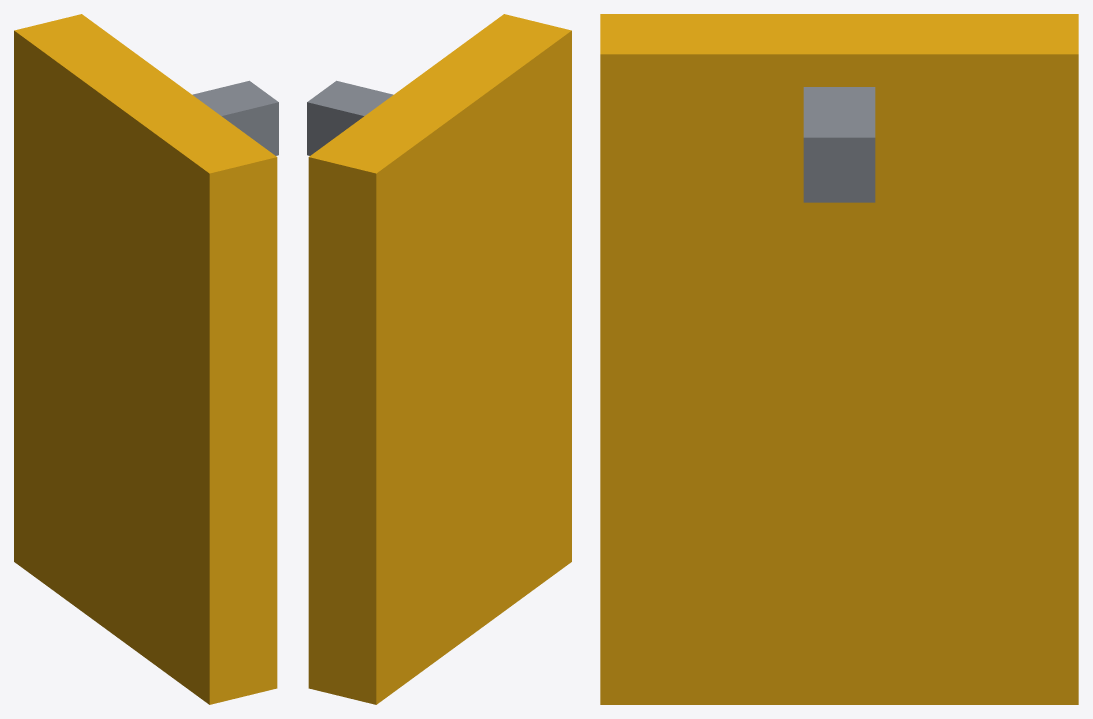
File: ENV_PendantDock.fbx
3 renders of one model, left to right at view 1: azimuth 30°, elevation 25°; view 2: azimuth 150°, elevation 25°; view 3: azimuth 270°, elevation 25°, orthographic. The views are drawn at different scales.
Visible parts, largest first — view 1: ENV_PendantDock, Hook; view 2: ENV_PendantDock, Hook; view 3: ENV_PendantDock, Hook.
Part boxes in pixels (left/top/right/bottom): ENV_PendantDock: left=14, top=14, right=277, bottom=704; Hook: left=192, top=80, right=278, bottom=155; ENV_PendantDock: left=308, top=14, right=571, bottom=704; Hook: left=307, top=80, right=393, bottom=155; ENV_PendantDock: left=600, top=14, right=1078, bottom=704; Hook: left=803, top=87, right=875, bottom=202.
Size of the model in its own units: 0.09 by 0.3 by 0.2.
2 materials, 2 textured.
